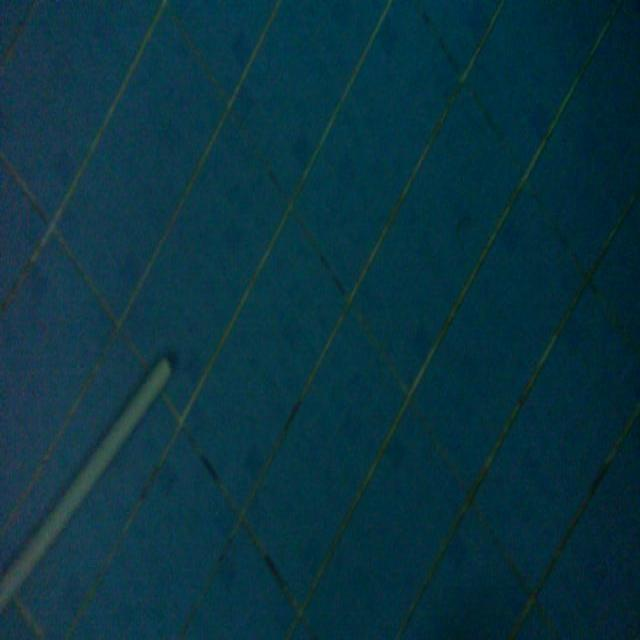Cube: (0, 343, 177, 617)
